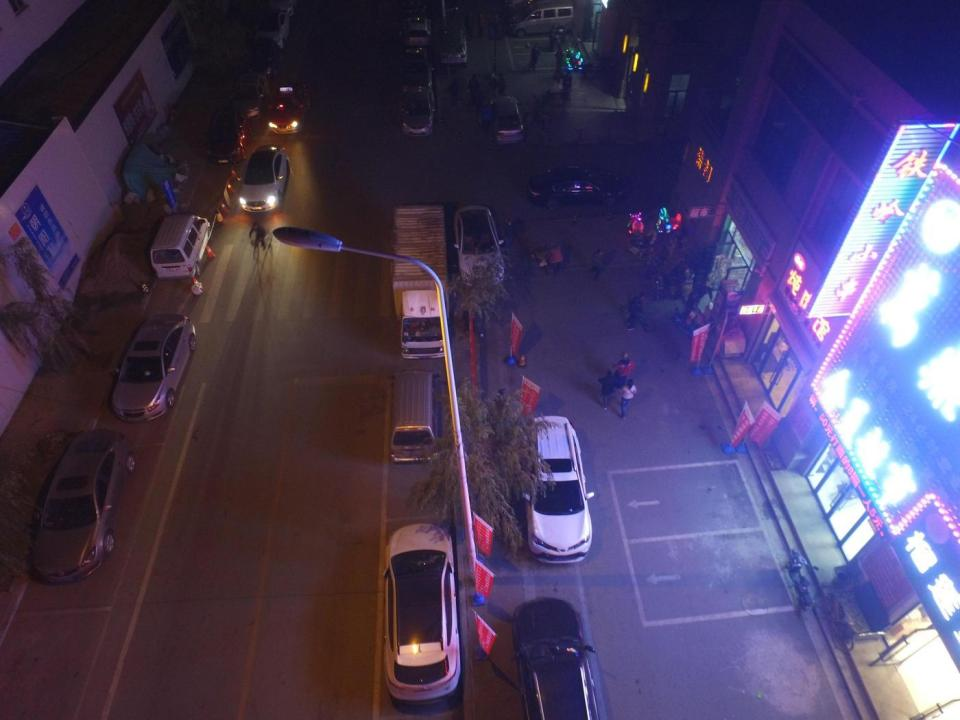car: (32, 429, 136, 584), (382, 523, 462, 704), (512, 596, 597, 720), (112, 314, 197, 421), (450, 204, 504, 288), (527, 166, 626, 210), (239, 144, 290, 213), (206, 109, 253, 164), (268, 82, 311, 132), (482, 96, 524, 144), (399, 86, 436, 136), (231, 74, 269, 120), (399, 48, 434, 91), (247, 38, 282, 78), (254, 10, 290, 48), (438, 28, 468, 69), (403, 16, 432, 49), (267, 1, 299, 15)
truck: (391, 205, 448, 359)
van: (518, 417, 594, 564), (388, 369, 441, 463), (149, 214, 210, 278), (508, 1, 573, 38)
